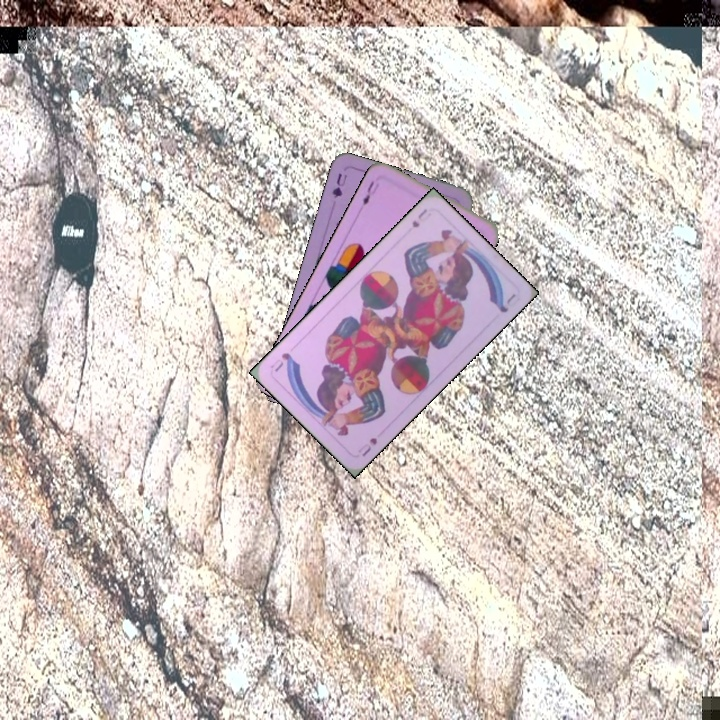EU: (358, 177, 377, 208)
GU: (328, 169, 349, 201)
SU: (354, 433, 380, 459), (408, 204, 430, 230)
